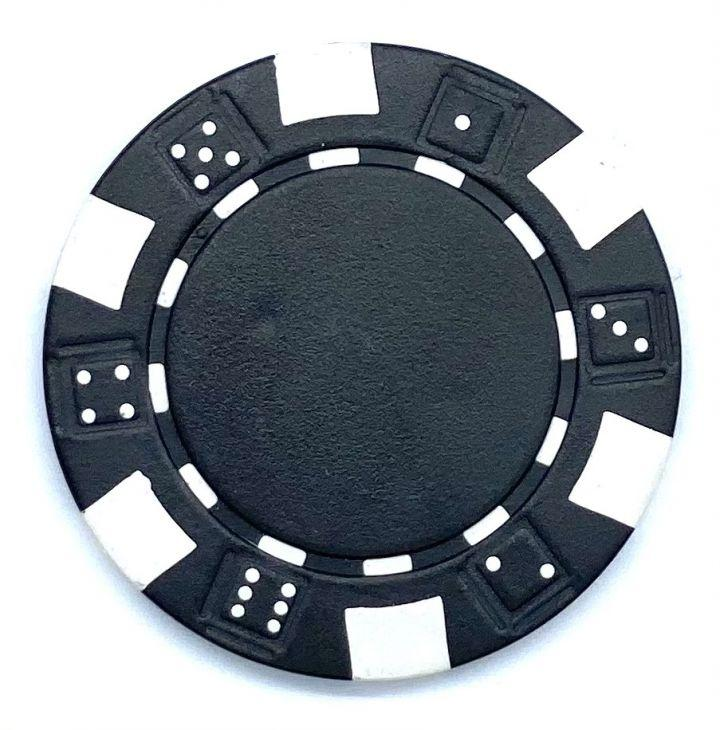chip-black: (44, 43, 680, 679)
